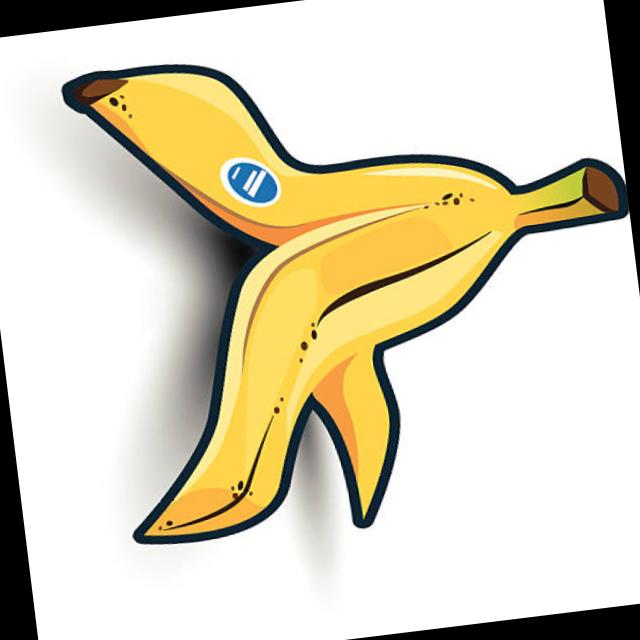banana_peel: (35, 50, 631, 563)
